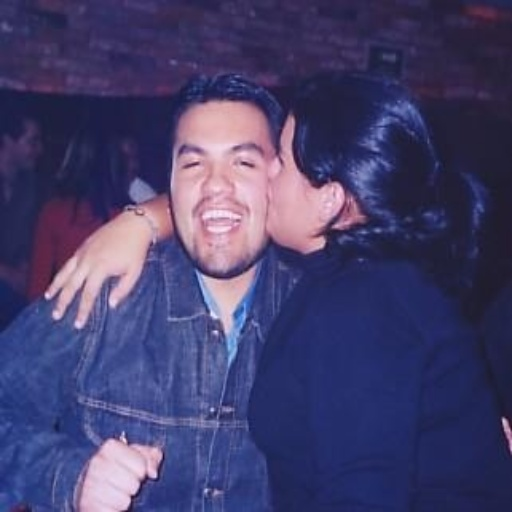hand: (43, 210, 149, 325), (71, 436, 165, 508), (500, 413, 510, 452)
